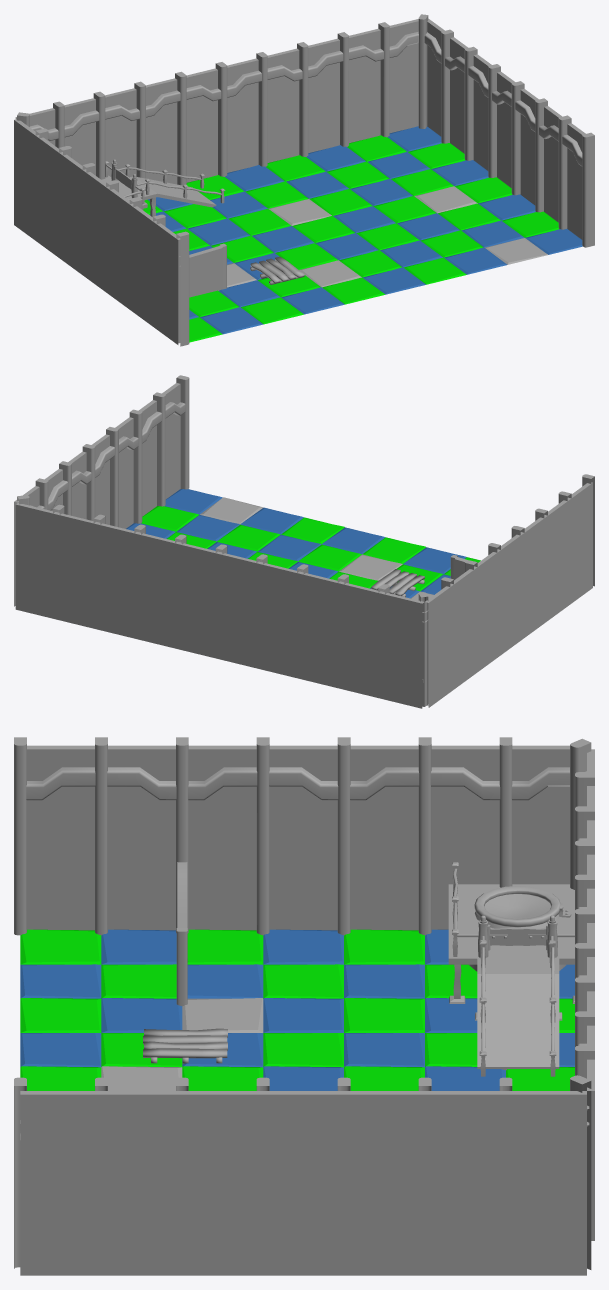
File: Salle.fbx
The picture shows the model from 3 angles, top to bottom: view 1: azimuth 30°, elevation 25°; view 2: azimuth 150°, elevation 25°; view 3: azimuth 270°, elevation 25°; orthographic projection. The views are drawn at different scales.
Parts seen in each view (by area): view 1: floor, mur_arriere, mur_gauche, mur_droit2, citerne, cloison, palette; view 2: mur_arriere, mur_gauche, floor, mur_droit2, palette; view 3: mur_droit2, mur_gauche, floor, citerne, mur_arriere, palette, chocolat, pCube154, cloison.
Part boxes in pixels (x1,y1,x2,y2): floor: [143, 126, 582, 342]; mur_arriere: [15, 14, 424, 185]; mur_gauche: [14, 114, 189, 346]; mur_droit2: [421, 14, 594, 247]; citerne: [101, 161, 225, 217]; cloison: [189, 245, 222, 297]; palette: [250, 256, 304, 284]; mur_arriere: [15, 496, 424, 708]; mur_gauche: [421, 474, 594, 707]; floor: [126, 489, 480, 600]; mur_droit2: [14, 375, 189, 606]; palette: [371, 569, 424, 597]; mur_droit2: [14, 1076, 587, 1275]; mur_gauche: [14, 737, 586, 935]; floor: [20, 929, 574, 1090]; citerne: [448, 862, 574, 1076]; mur_arriere: [573, 740, 594, 1269]; palette: [143, 1028, 227, 1063]; chocolat: [484, 894, 550, 918]; pCube154: [176, 928, 187, 1006]; cloison: [177, 862, 187, 927].
Bounding box in the file's own units: 102 × 26.24 × 71.8.
